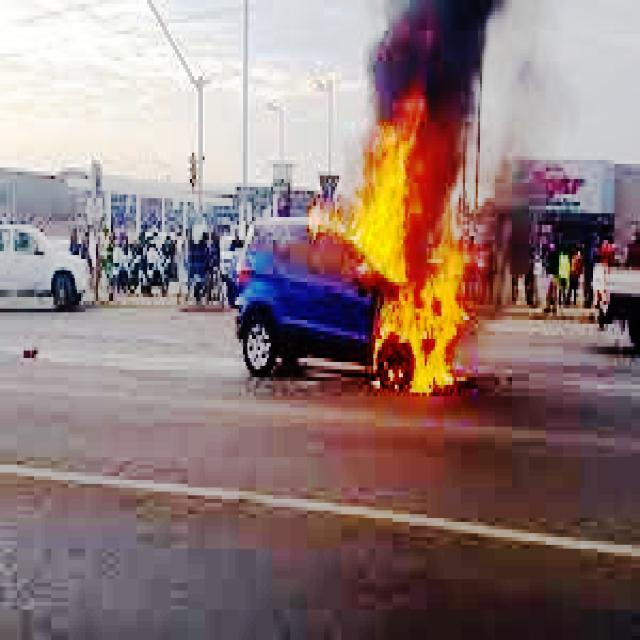api: (306, 100, 475, 405)
